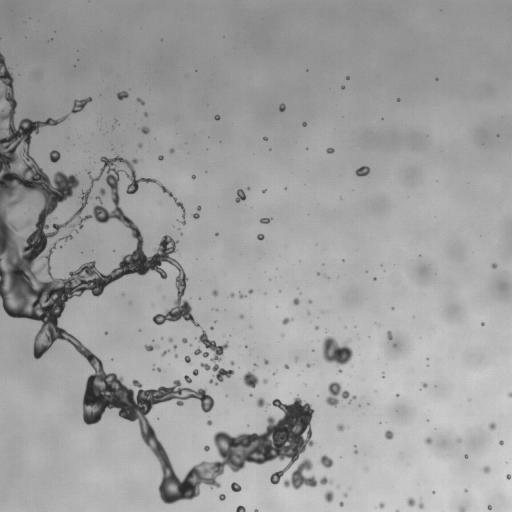droplet: (194, 329, 234, 385), (283, 458, 331, 489), (322, 336, 353, 366), (326, 381, 356, 405), (243, 371, 258, 388), (319, 454, 333, 468), (355, 166, 370, 176), (49, 150, 60, 162), (235, 189, 245, 202), (324, 490, 334, 503), (231, 482, 241, 492), (117, 91, 128, 100), (384, 430, 393, 439), (406, 497, 415, 506), (282, 317, 293, 324), (141, 126, 149, 134), (488, 422, 496, 430), (184, 355, 191, 364), (184, 375, 191, 383), (260, 218, 271, 223), (236, 505, 245, 511), (137, 98, 144, 105), (337, 424, 344, 431), (424, 437, 431, 444), (483, 466, 490, 473), (279, 103, 285, 111), (387, 331, 392, 340), (99, 188, 105, 195), (257, 234, 264, 240), (239, 292, 246, 298), (293, 298, 299, 305), (326, 148, 334, 153), (418, 501, 423, 509), (192, 369, 198, 375), (219, 494, 225, 500), (214, 115, 220, 120), (212, 290, 217, 296), (229, 292, 235, 297), (204, 445, 209, 451), (379, 502, 384, 508), (306, 363, 313, 367), (169, 148, 174, 153), (158, 155, 163, 160), (492, 263, 497, 268), (182, 338, 187, 343), (284, 364, 289, 369), (422, 382, 427, 387), (207, 420, 212, 425), (155, 367, 161, 371), (459, 507, 465, 511), (302, 121, 306, 126), (168, 337, 172, 342), (294, 356, 298, 361), (264, 359, 268, 364), (262, 379, 267, 383), (506, 474, 510, 479), (339, 501, 343, 506), (487, 505, 492, 509), (138, 143, 142, 147), (248, 289, 252, 293), (173, 345, 177, 349), (174, 353, 178, 357), (230, 361, 234, 365), (499, 440, 503, 444), (354, 449, 358, 453), (343, 493, 347, 497), (508, 392, 511, 397), (341, 86, 345, 89), (263, 137, 267, 140), (262, 189, 266, 192), (240, 314, 243, 318), (464, 455, 468, 458), (144, 113, 147, 116), (192, 175, 195, 178), (12, 225, 15, 228), (307, 311, 310, 314), (315, 326, 318, 329), (458, 439, 461, 442), (254, 509, 258, 511), (395, 509, 399, 511), (247, 187, 250, 189), (308, 300, 311, 302), (481, 323, 484, 325), (210, 327, 213, 329), (254, 363, 256, 366), (339, 369, 341, 372), (382, 374, 384, 377), (396, 394, 399, 396), (464, 489, 467, 491), (432, 491, 435, 493), (397, 99, 399, 101), (216, 233, 218, 235), (374, 278, 376, 280), (105, 332, 107, 334), (250, 394, 252, 396)
ligament: (0, 52, 314, 503), (70, 97, 91, 113), (192, 205, 201, 218), (144, 344, 159, 351), (162, 349, 169, 356)
